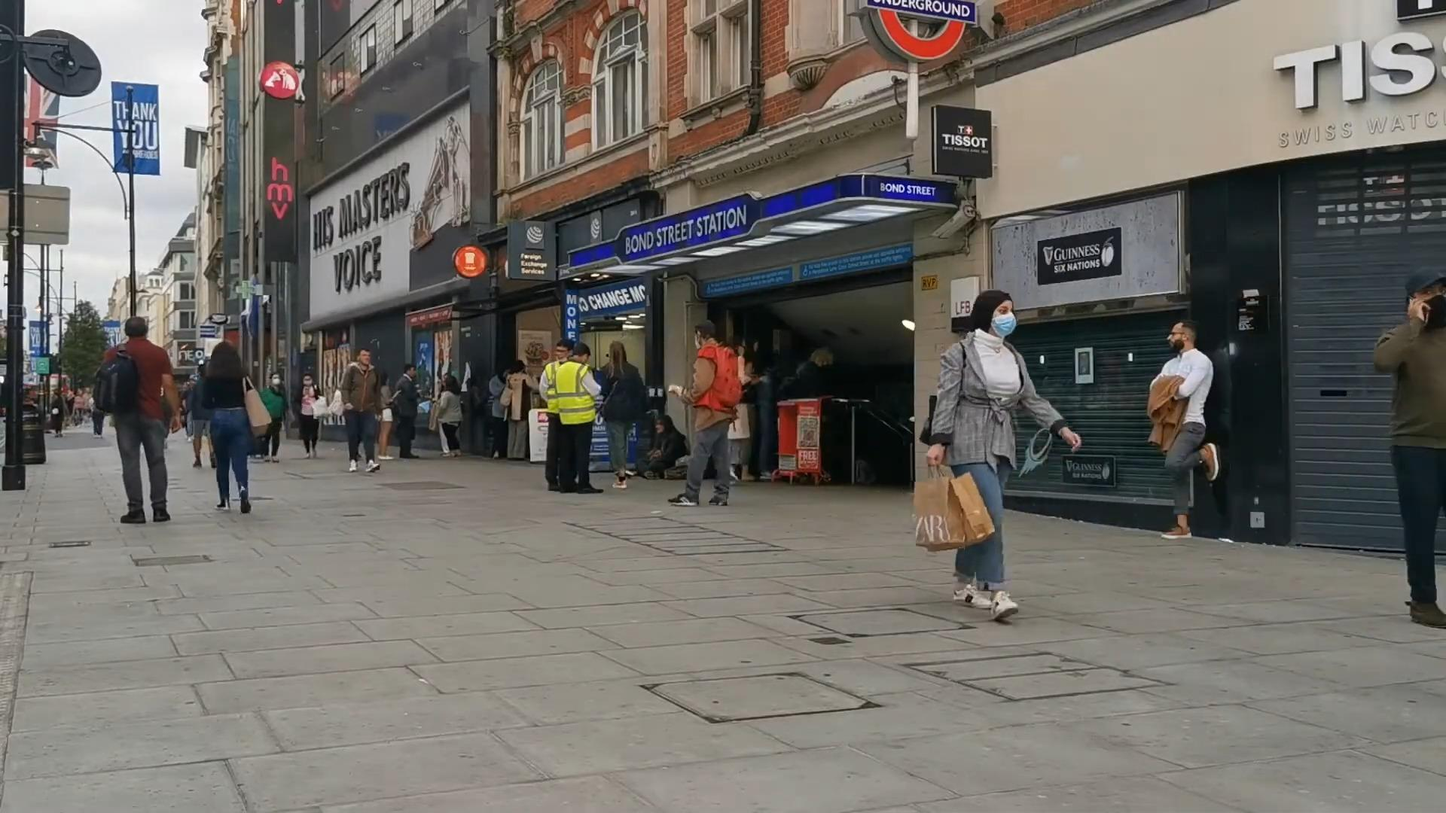no-helmet: (1405, 270, 1446, 332), (969, 290, 1017, 340), (206, 341, 243, 380), (1166, 321, 1197, 352), (695, 319, 715, 349), (124, 316, 147, 338), (609, 340, 627, 367), (555, 339, 573, 362), (573, 342, 591, 364), (356, 347, 370, 366), (270, 371, 281, 386)
